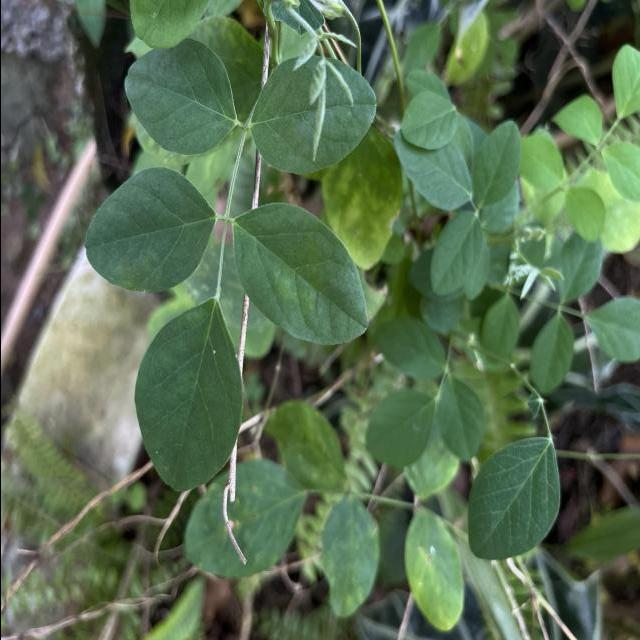Clitoria ternatea: (133, 296, 243, 493), (230, 201, 368, 346), (82, 165, 216, 294), (122, 36, 237, 156), (465, 436, 560, 560)
